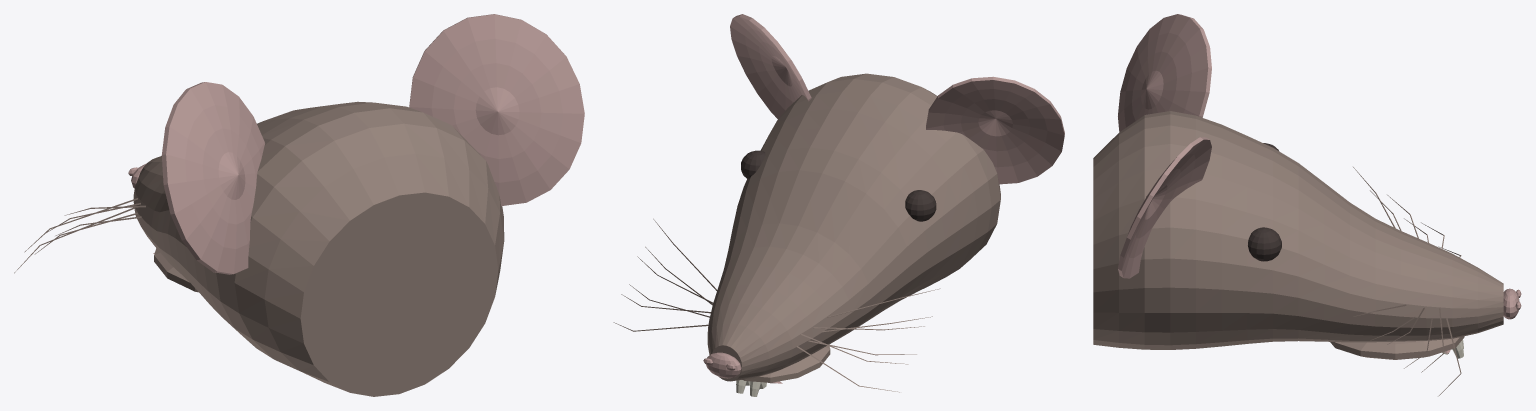
Rendered from rat_head_original_01.glb.
3 renders of one model, left to right at view 1: azimuth 30°, elevation 25°; view 2: azimuth 150°, elevation 25°; view 3: azimuth 270°, elevation 25°, orthographic. The views are drawn at different scales.
Visible parts, largest first — view 1: Cranium, EarR, EarL, Jaw; view 2: Cranium, EarL, EarR, Jaw, EyeL, Nose, EyeR; view 3: Cranium, EarL, EarR, Jaw, EyeR, Nose.
Part boxes in pixels (x1=…): Cranium: x1=133, y1=101, x2=504, y2=396; EarR: x1=409, y1=14, x2=584, y2=206; EarL: x1=161, y1=82, x2=264, y2=274; Jaw: x1=154, y1=248, x2=198, y2=292; Cranium: x1=707, y1=73, x2=1000, y2=381; EarL: x1=926, y1=76, x2=1064, y2=184; EarR: x1=730, y1=14, x2=811, y2=118; Jaw: x1=742, y1=345, x2=830, y2=382; EyeL: x1=905, y1=190, x2=936, y2=221; Nose: x1=706, y1=352, x2=741, y2=378; EyeR: x1=741, y1=150, x2=765, y2=179; Cranium: x1=1093, y1=111, x2=1503, y2=349; EarL: x1=1118, y1=14, x2=1211, y2=131; EarR: x1=1118, y1=137, x2=1211, y2=278; Jaw: x1=1330, y1=336, x2=1464, y2=359; EyeR: x1=1248, y1=227, x2=1281, y2=261; Nose: x1=1503, y1=288, x2=1519, y2=319.
Size of the model in its own units: 0.5258 by 0.3898 by 0.553.
